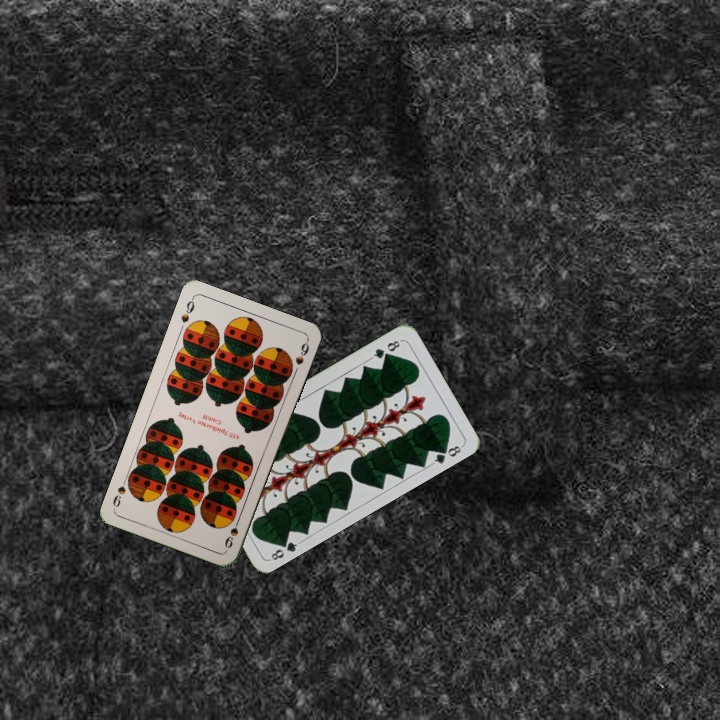G8: (266, 534, 303, 563), (367, 336, 404, 362)
S9: (221, 512, 243, 551), (177, 294, 197, 325)
